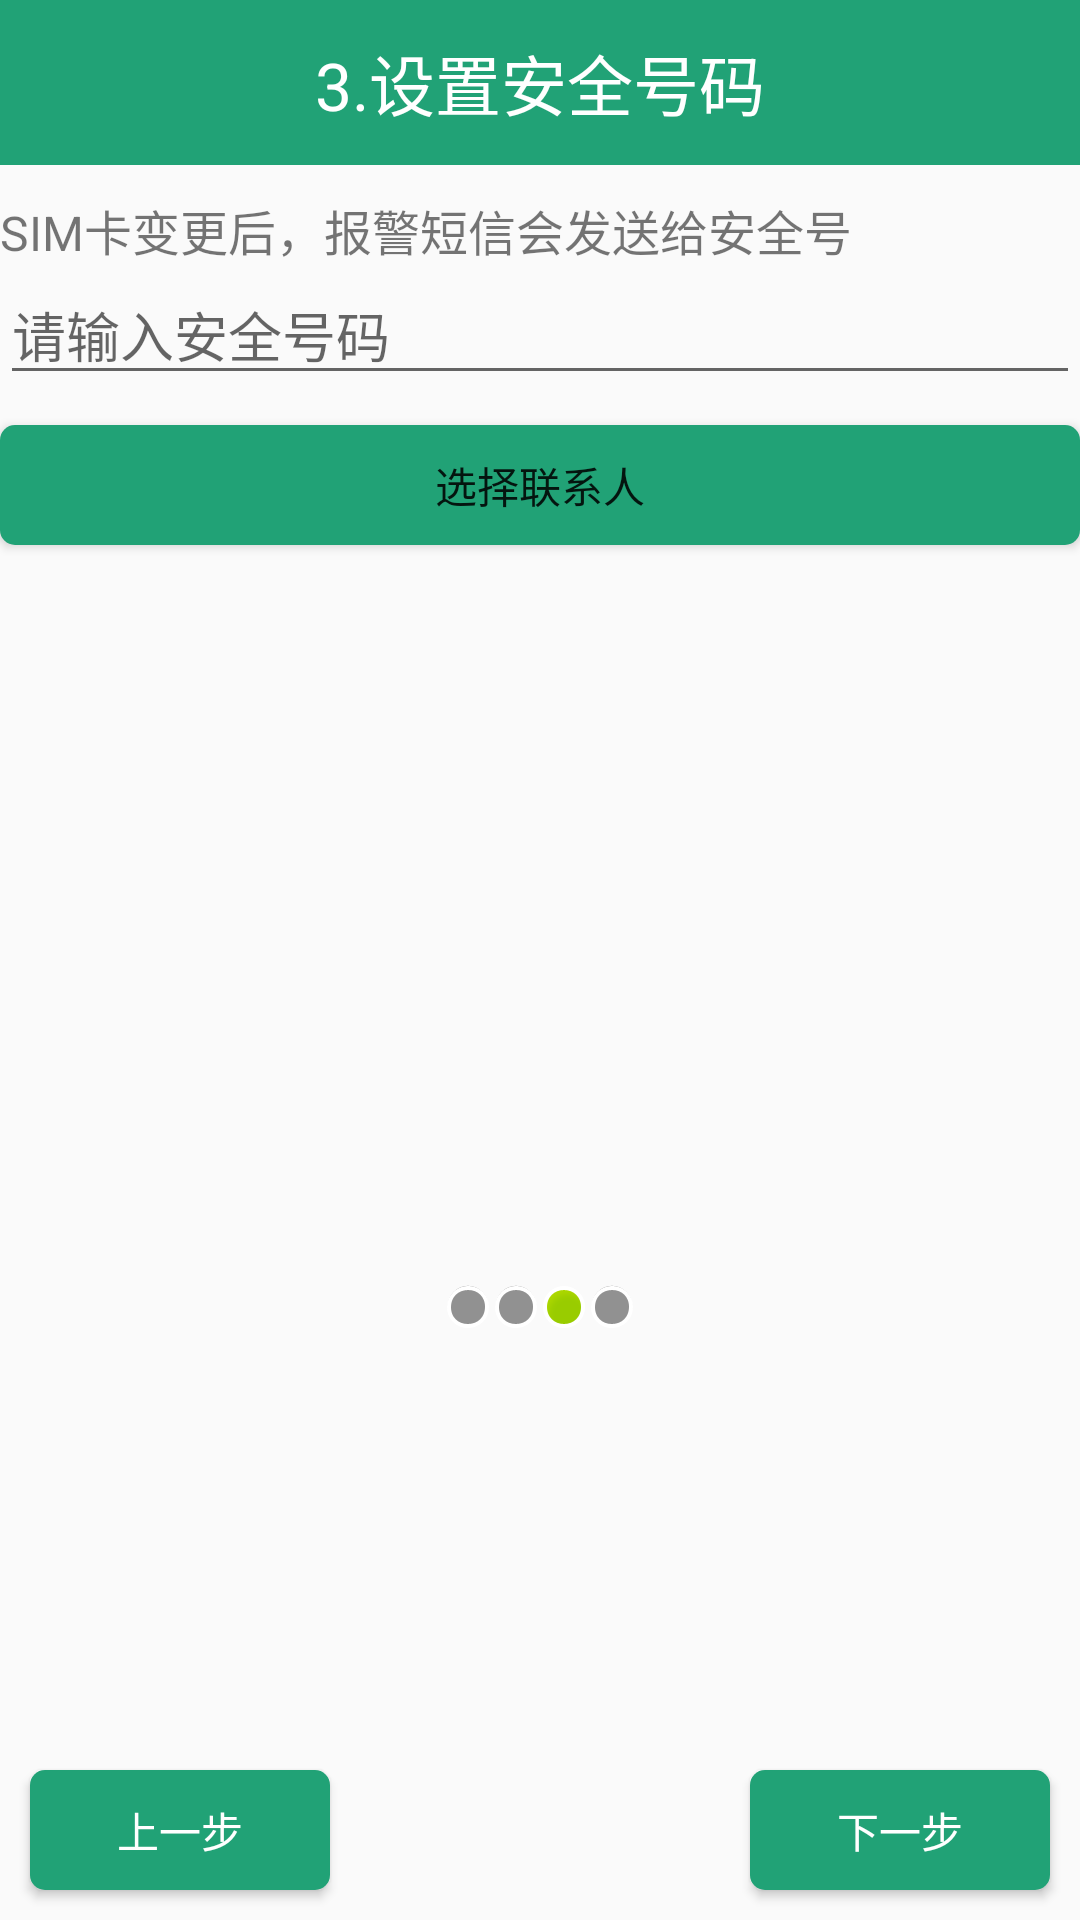

Screen size 1080 × 1920. Icon name, then its box in pixels as {"left": x1, "top": y1, "right": x2, "bottom": y2}:
presence invisible: {"left": 451, "top": 1286, "right": 485, "bottom": 1324}, {"left": 499, "top": 1286, "right": 533, "bottom": 1324}, {"left": 595, "top": 1286, "right": 629, "bottom": 1324}
presence online: {"left": 547, "top": 1290, "right": 581, "bottom": 1324}
